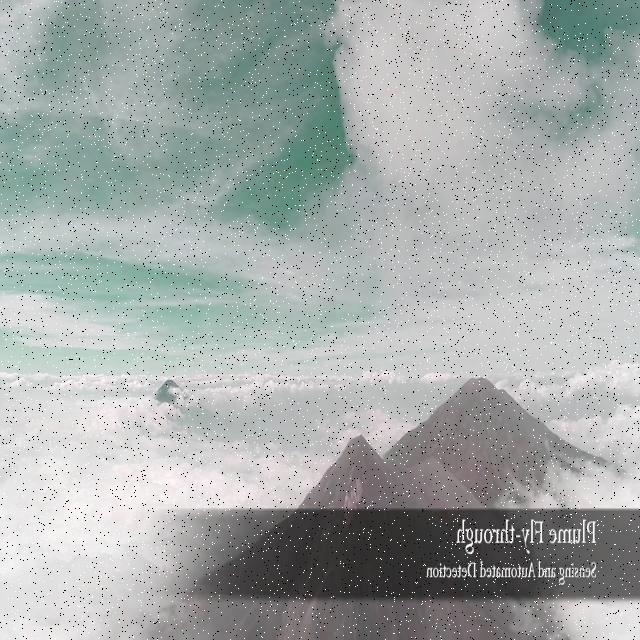Summit: (290, 429, 432, 509)
